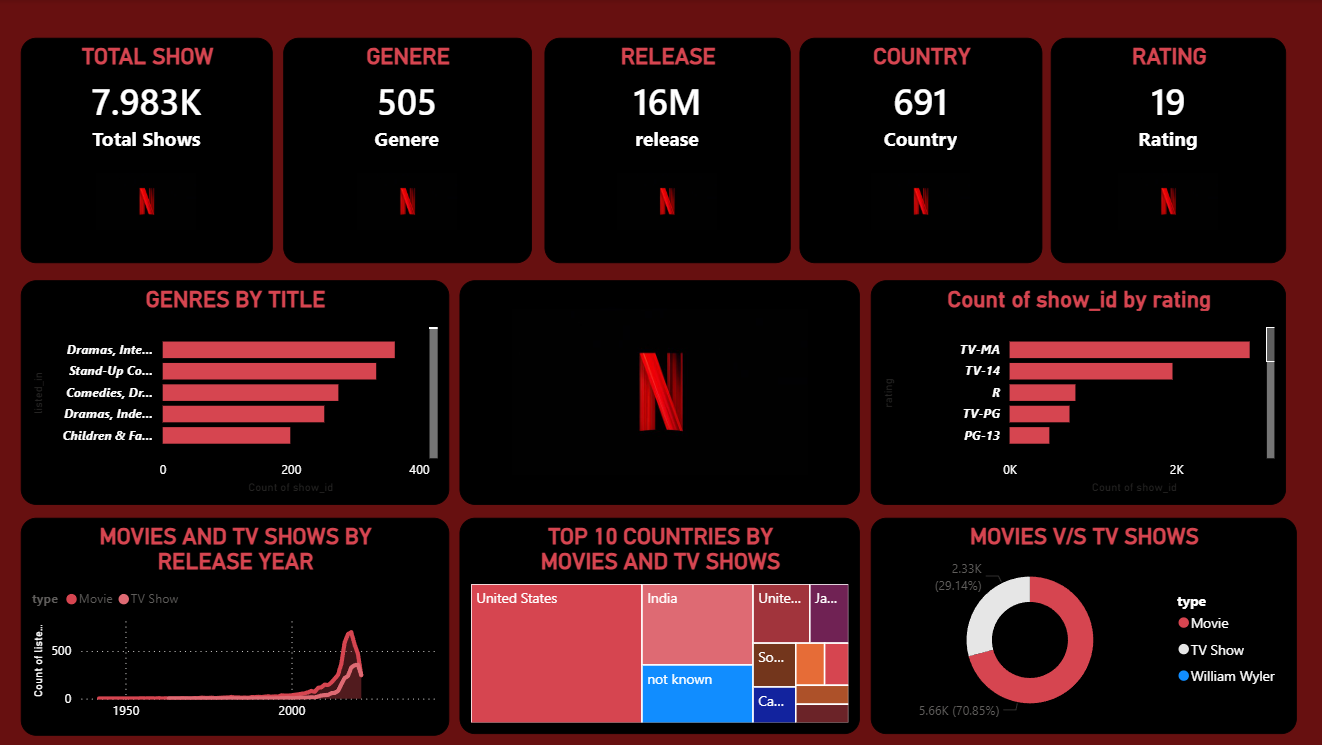

This screenshot's page, from the dashboard's own definition file:
{"tool":"powerbi","page":{"name":"Page 1","canvas":[1280,720],"ordinal":0},"visuals":[{"type":"cardVisual","title":"TOTAL SHOW","fields":{"Data":["Count(netflix_titles.show_id)"]},"box":[23.2,37.9,243.3,217.7],"z":0},{"type":"cardVisual","title":"GENERE","fields":{"Data":["Count(netflix_titles.listed_in)"]},"box":[276.4,37.9,239.7,217.7],"z":1000},{"type":"clusteredBarChart","title":"GENRES BY TITLE","fields":{"Y":["CountNonNull(netflix_titles.show_id)"],"Category":["netflix_titles.listed_in"]},"box":[23.2,271.5,413.3,216.4],"z":2000},{"type":"clusteredBarChart","fields":{"Category":["netflix_titles.rating"],"Y":["CountNonNull(netflix_titles.show_id)"]},"box":[843.8,271.5,401.1,216.4],"z":3000},{"type":"areaChart","title":"MOVIES AND TV SHOWS BY RELEASE YEAR","fields":{"Category":["netflix_titles.release_year"],"Y":["CountNonNull(netflix_titles.listed_in)"],"Series":["netflix_titles.type"]},"box":[23.2,500.1,413.3,210.3],"z":4000},{"type":"treemap","title":"TOP 10 COUNTRIES  BY MOVIES AND TV SHOWS","fields":{"Group":["netflix_titles.country"],"Values":["CountNonNull(netflix_titles.show_id)"]},"box":[446.3,500.1,386.4,209.1],"z":5000},{"type":"donutChart","title":"MOVIES V/S TV SHOWS ","fields":{"Category":["netflix_titles.type"],"Y":["CountNonNull(netflix_titles.listed_in)"]},"box":[843.8,500.1,410.9,209.1],"z":6000},{"type":"cardVisual","title":"RELEASE","fields":{"Data":["Sum(netflix_titles.release_year)"]},"box":[528.3,37.9,237.2,217.7],"z":7000},{"type":"cardVisual","title":"COUNTRY","fields":{"Data":["Count(netflix_titles.country)"]},"box":[774.1,37.9,234.8,217.7],"z":8000},{"type":"cardVisual","title":"RATING","fields":{"Data":["Count(netflix_titles.rating)"]},"box":[1017.4,37.9,227.4,217.7],"z":9000},{"type":"image","box":[446.3,271.5,386.4,216.4],"z":10000}]}

Visuals, with their boxes in screenshot pixels (x1, y1, x2, y2), scaled from the page's 1280x720 canvas onto the 1322x745 screenshot:
"TOTAL SHOW" cardVisual: 24, 39, 275, 264
"GENERE" cardVisual: 285, 39, 533, 264
"GENRES BY TITLE" clusteredBarChart: 24, 281, 451, 505
clusteredBarChart - netflix_titles.rating x CountNonNull(netflix_titles.show_id): 871, 281, 1286, 505
"MOVIES AND TV SHOWS BY RELEASE YEAR" areaChart: 24, 517, 451, 735
"TOP 10 COUNTRIES  BY MOVIES AND TV SHOWS" treemap: 461, 517, 860, 734
"MOVIES V/S TV SHOWS " donutChart: 871, 517, 1296, 734
"RELEASE" cardVisual: 546, 39, 791, 264
"COUNTRY" cardVisual: 800, 39, 1042, 264
"RATING" cardVisual: 1051, 39, 1286, 264
image: 461, 281, 860, 505
